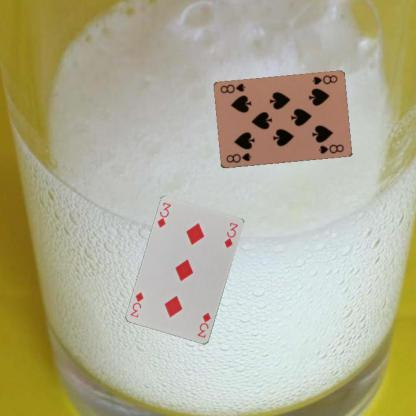3d: (195, 310, 212, 339), (155, 200, 172, 229)
8s: (224, 150, 252, 164), (310, 73, 338, 86)
